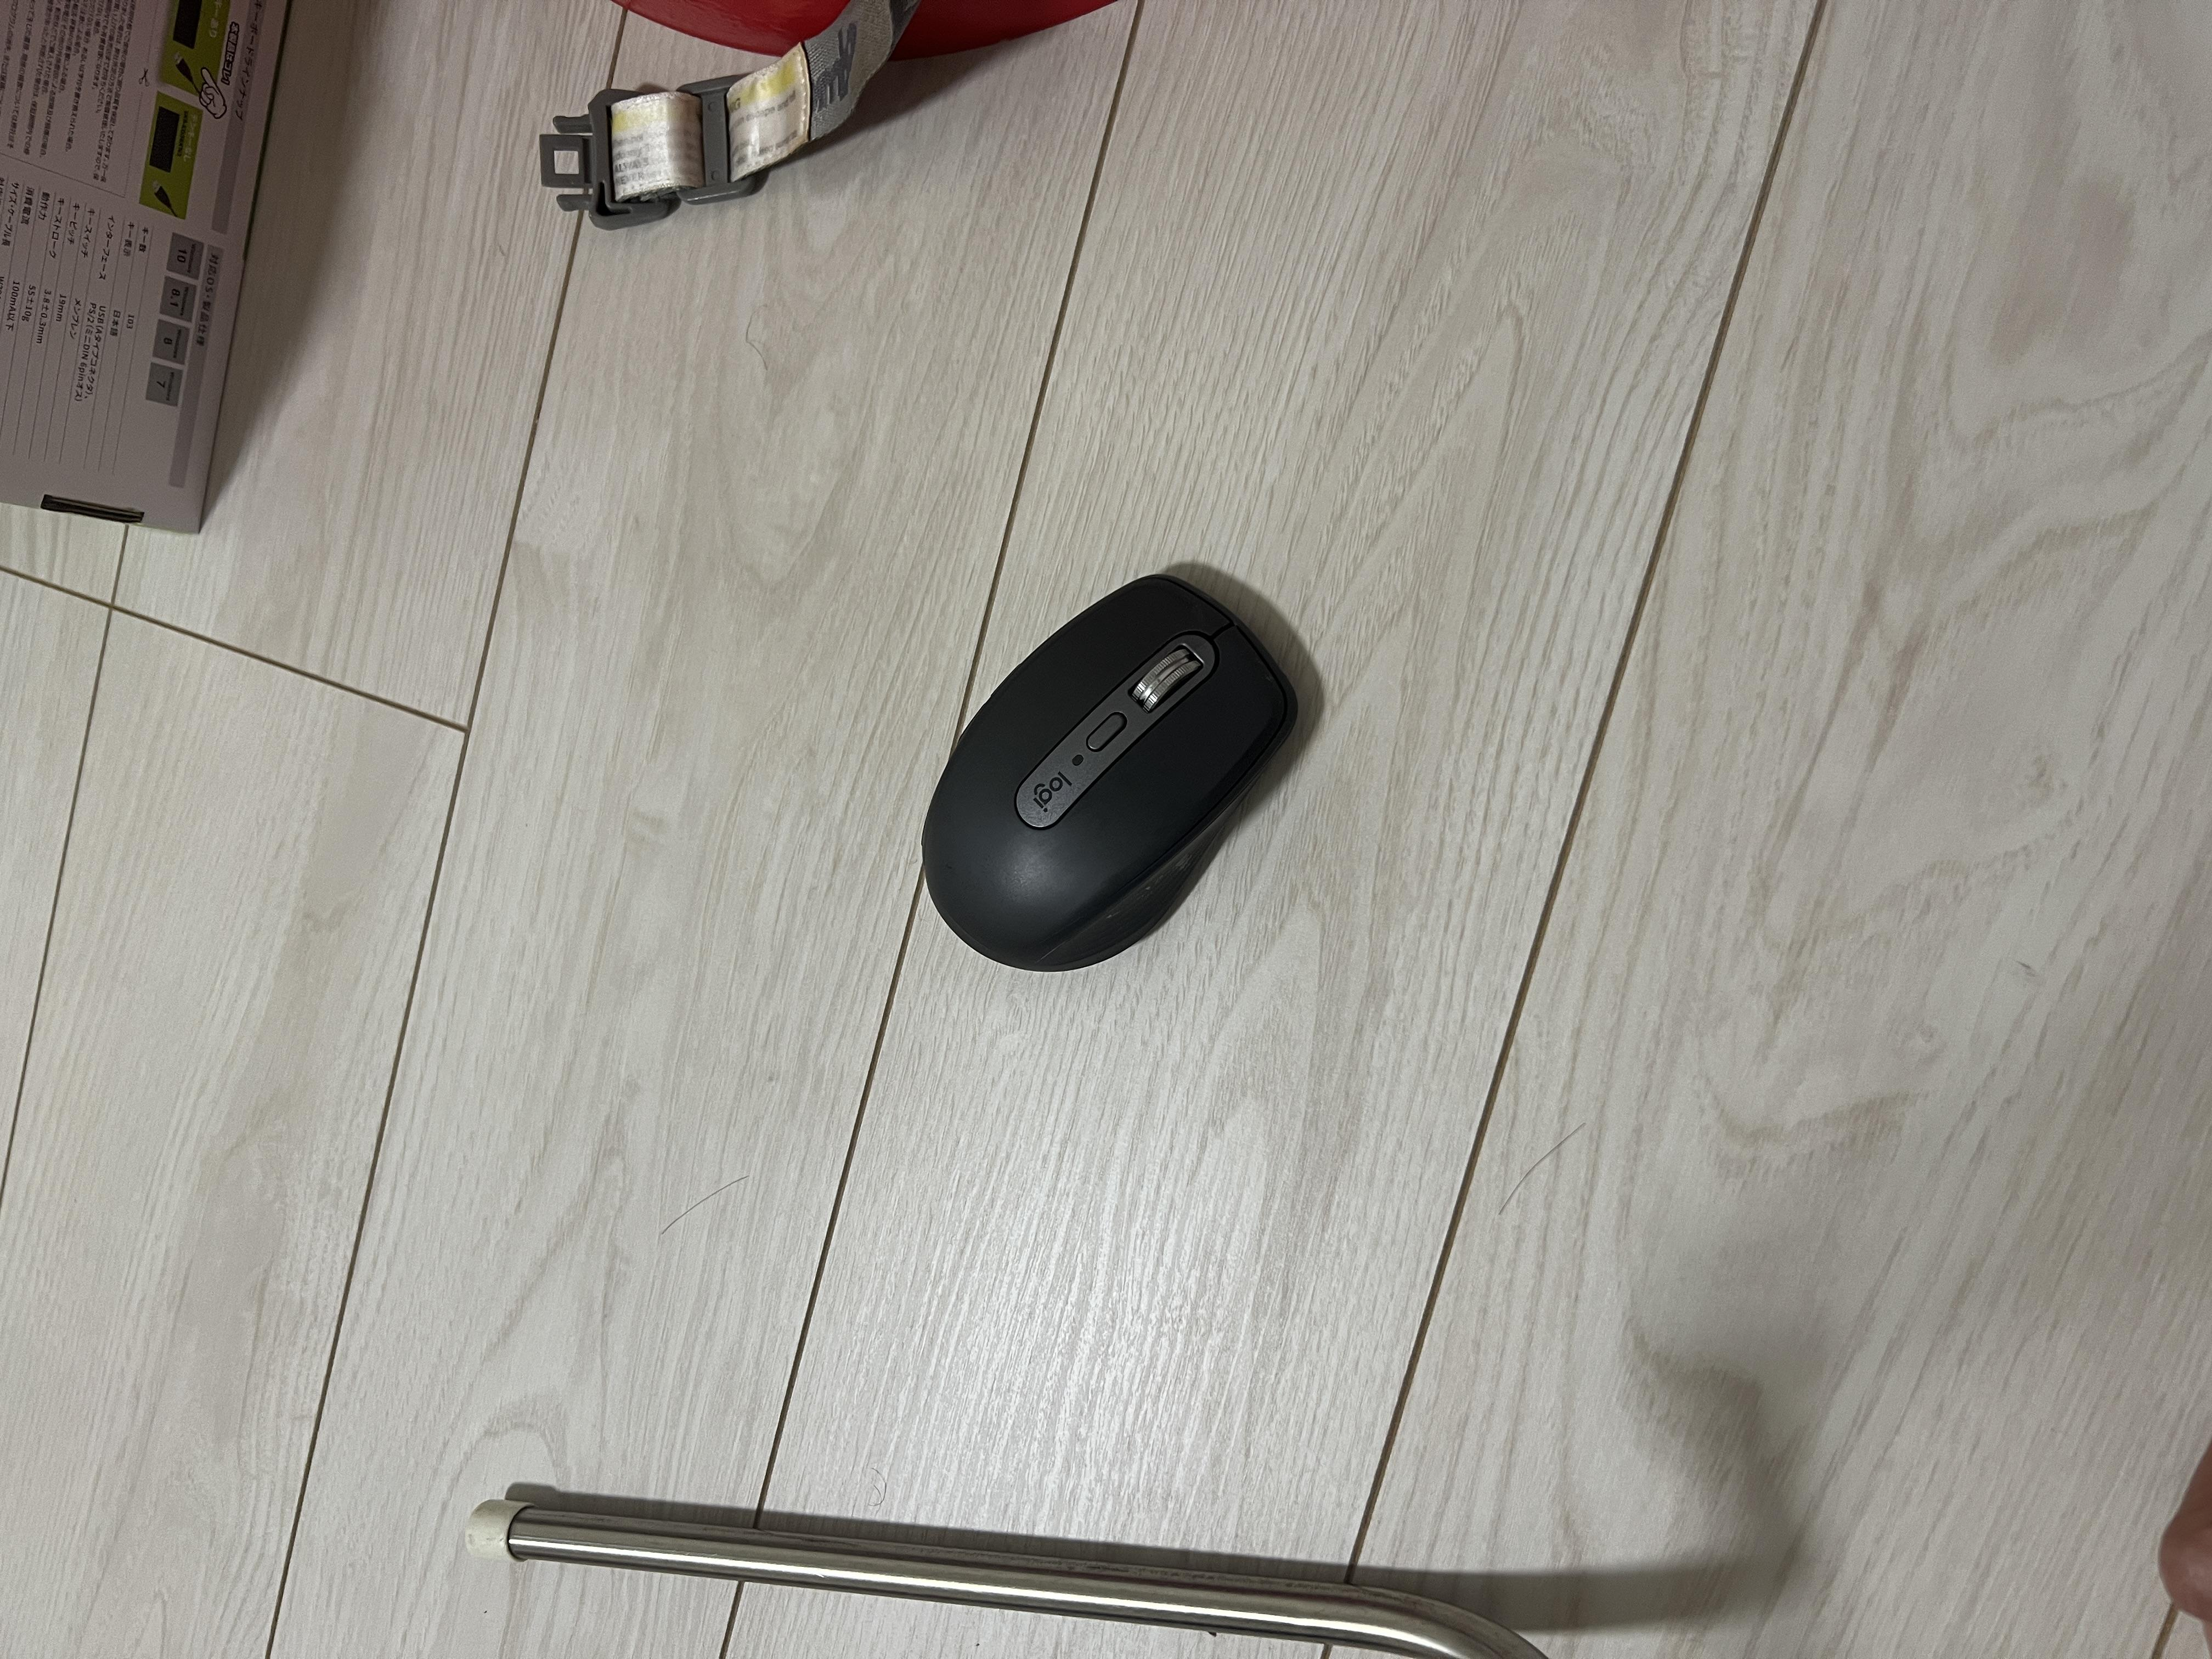mouse: (893, 691, 1469, 974)
